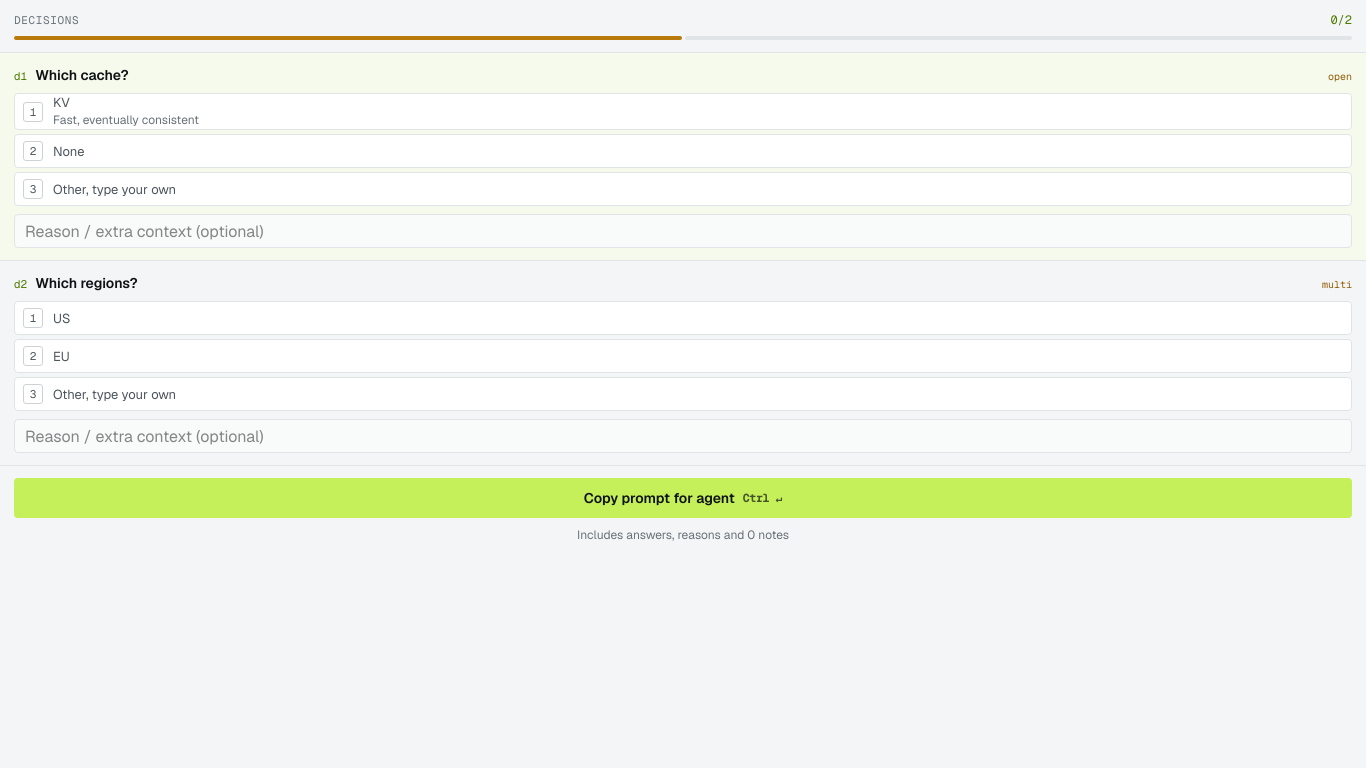
it: DecisionDock › counts reasons in the footer line, the Note lines the prompt prints
Expected: the text "Includes answers, reasons and 0 notes" is shown, left=577, top=527, right=789, bottom=543
In the text box named "d1 Reason": [683, 231] box left=14, top=214, right=1352, bottom=248, type "why"
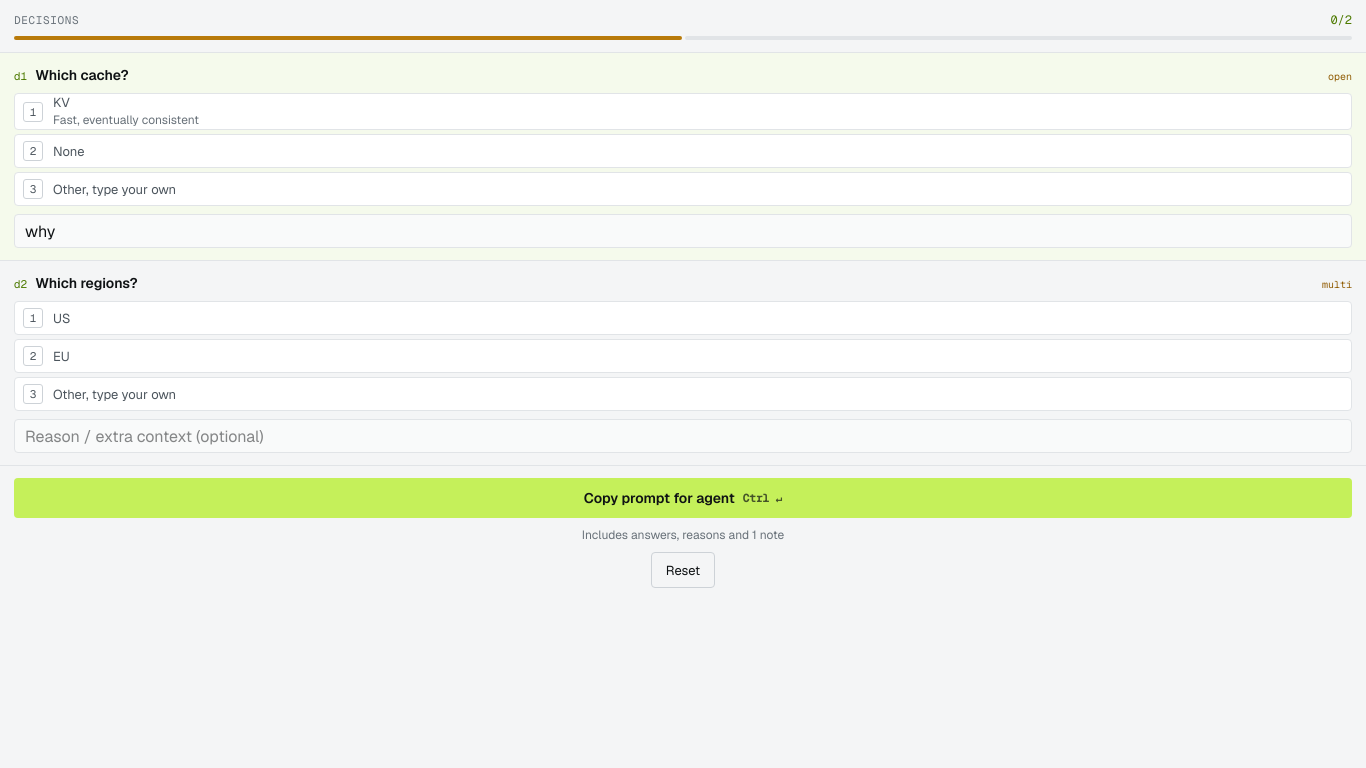
Now the text "Includes answers, reasons and 1 note" is shown, box left=582, top=527, right=784, bottom=543
